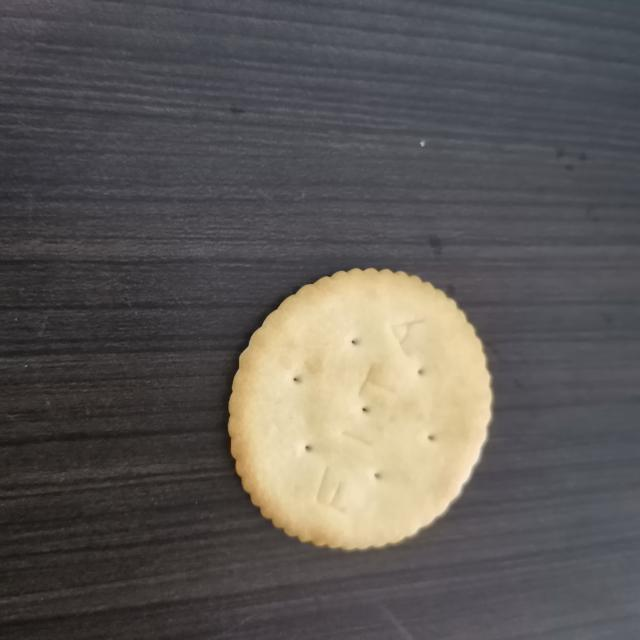Intact: (215, 252, 506, 565)
